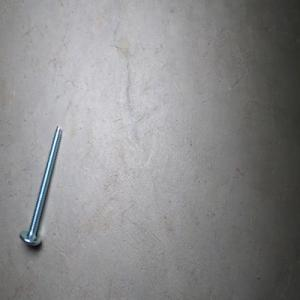Bolt: (18, 124, 62, 247)
